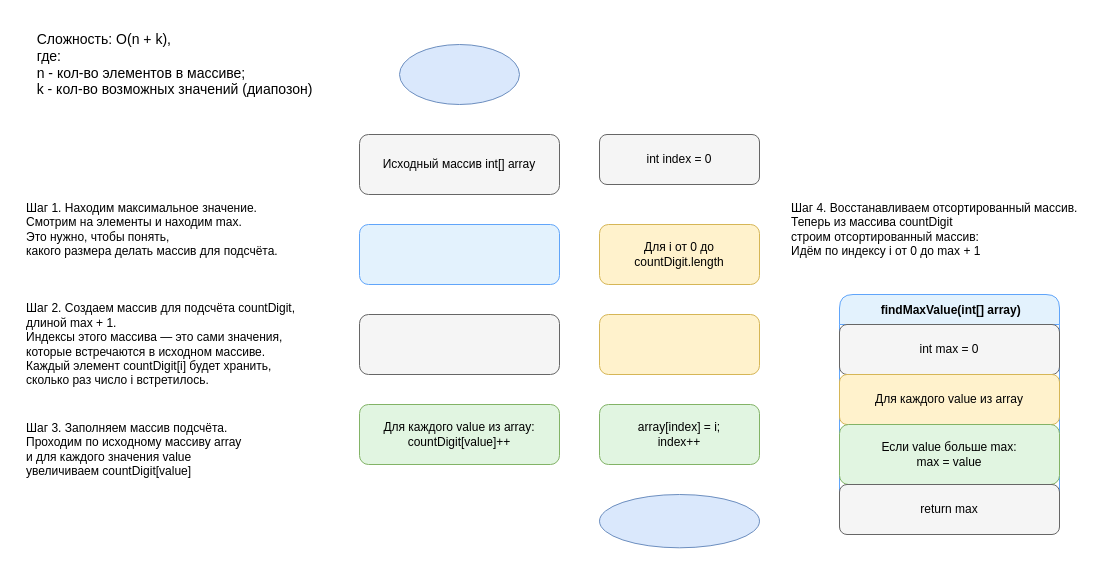
Image size: 1117x566. Some labels were removed from this diagram. The box of each missing label's shape, as (x1, y1, x2, y2) in pixels:
Finish: (598, 494, 760, 548)
int max = findMaxValue(array): (358, 224, 560, 284)
int[] countDigit = new int[max + 1]: (358, 314, 560, 374)
Start: (398, 44, 520, 104)
Для j от 0 до countDigit[i]: (598, 314, 760, 374)
